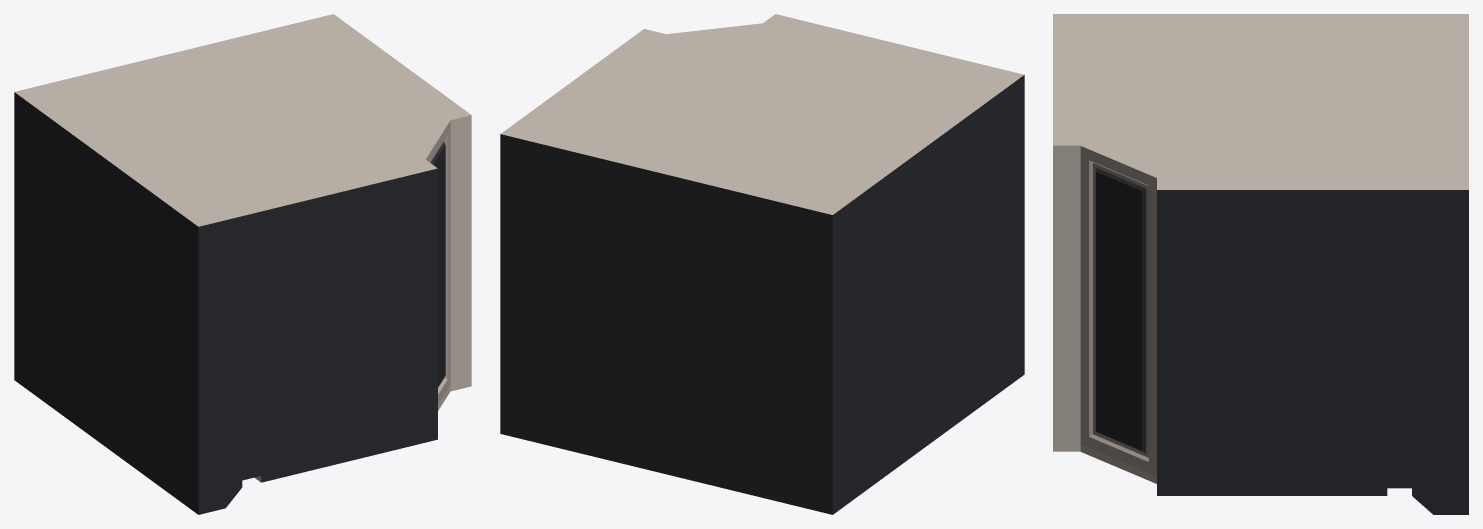
File: SM_Wall_Locker_Corner.glb
3 renders of one model, left to right at view 1: azimuth 30°, elevation 25°; view 2: azimuth 150°, elevation 25°; view 3: azimuth 270°, elevation 25°, orthographic. The views are drawn at different scales.
Parts seen in each view (by area): view 1: SM_Wall_Locker_Corner.001; view 2: SM_Wall_Locker_Corner.001; view 3: SM_Wall_Locker_Corner.001.
Part boxes in pixels (<box>): SM_Wall_Locker_Corner.001: <box>14,14,471,514</box>; SM_Wall_Locker_Corner.001: <box>500,14,1024,514</box>; SM_Wall_Locker_Corner.001: <box>1053,14,1468,514</box>.
Bounding box in the file's own units: 0.8006 × 0.6902 × 0.8003.
Materials: 1 (1 with a texture image).
